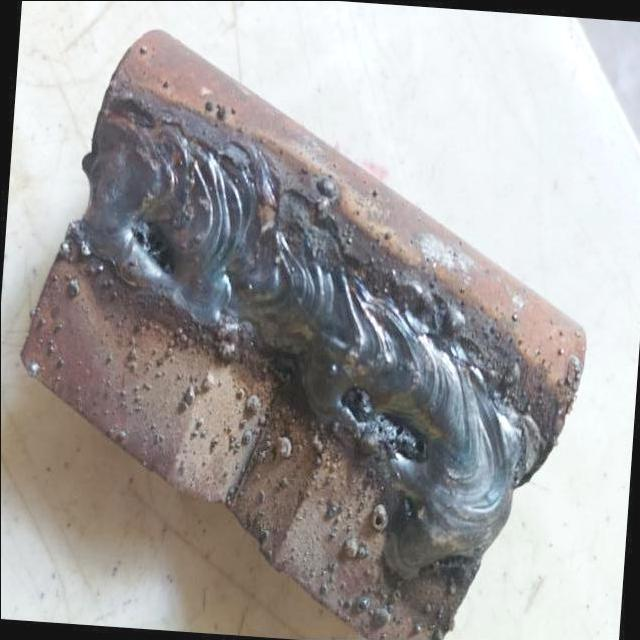defect: (343, 385, 430, 463), (128, 214, 178, 284)
